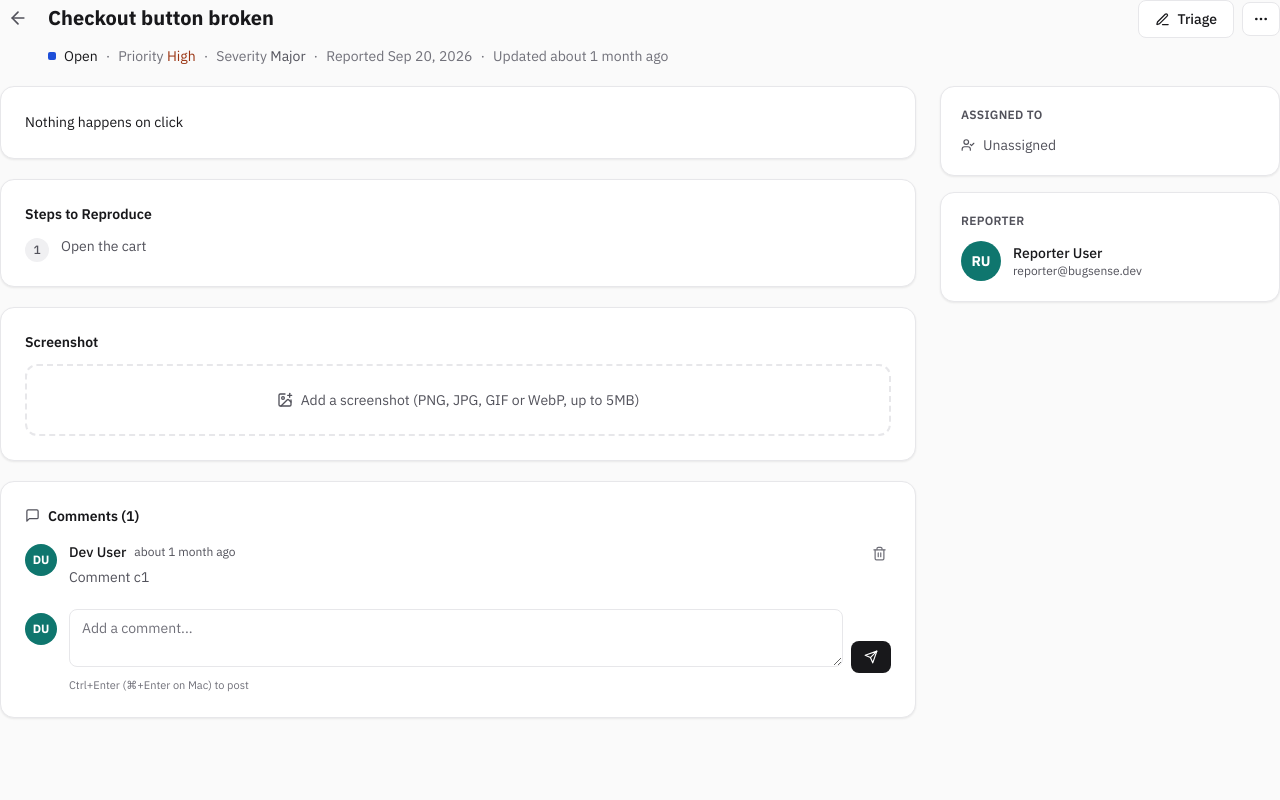
it: BugDetail real-time behaviour › asks before deleting a comment, and only deletes on confirm
Expected: the heading "Checkout button broken" is shown, [48, 4, 274, 31]
Click the button named "Delete comment by Dev User".
click(879, 554)  # box [859, 534, 899, 574]
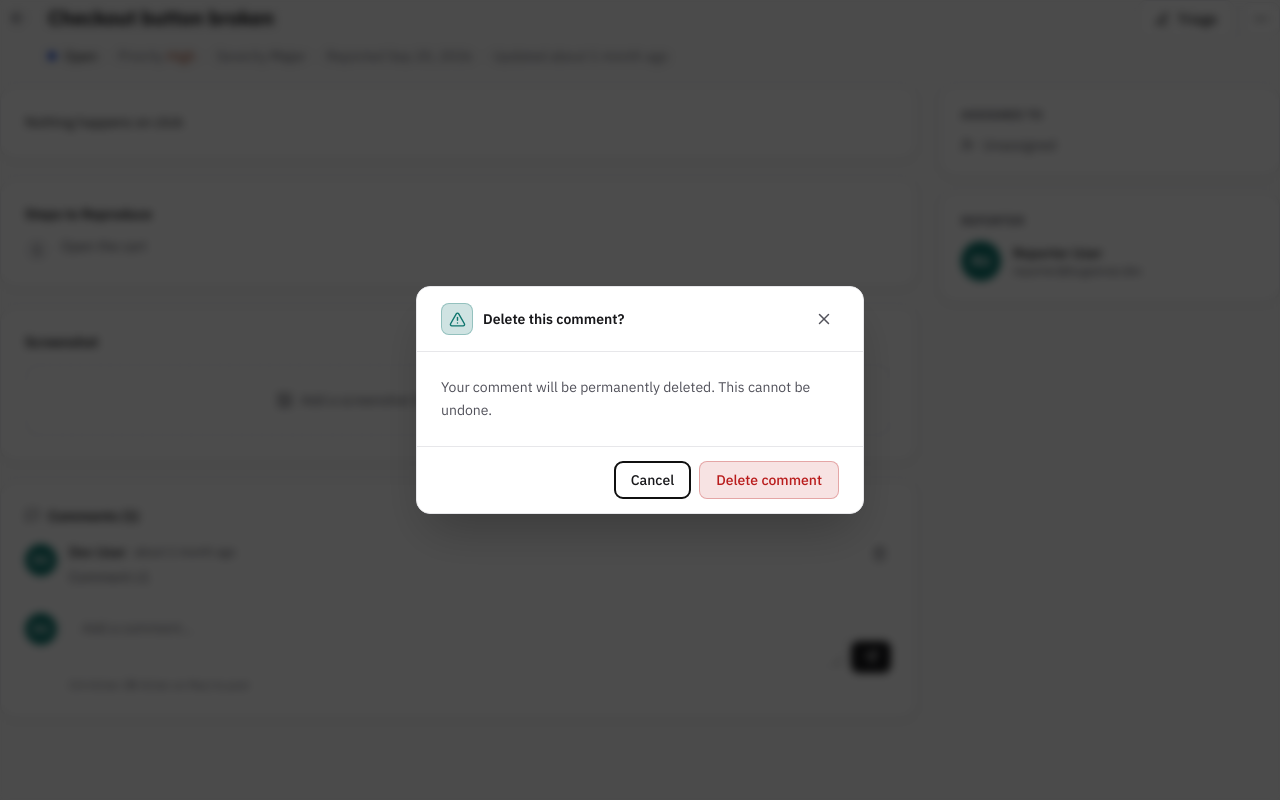
# Cancel keeps it.
Click the button "Cancel".
click(652, 480)  # box [614, 461, 691, 499]
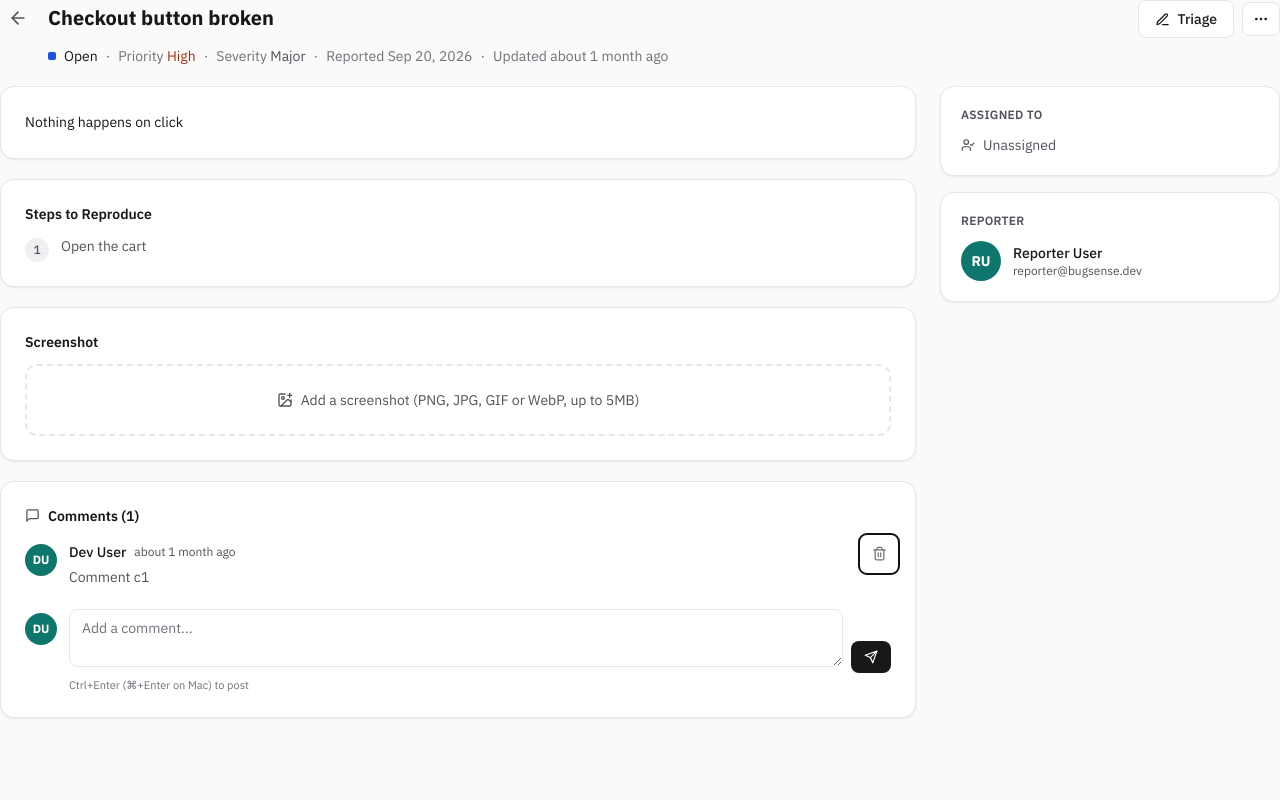
Expected: the text "Comment c1" is shown, [69, 568, 149, 586]
Now the dialog is gone
# Confirm deletes it.
Click the button named "Delete comment by Dev User".
click(879, 554)  # box [859, 534, 899, 574]
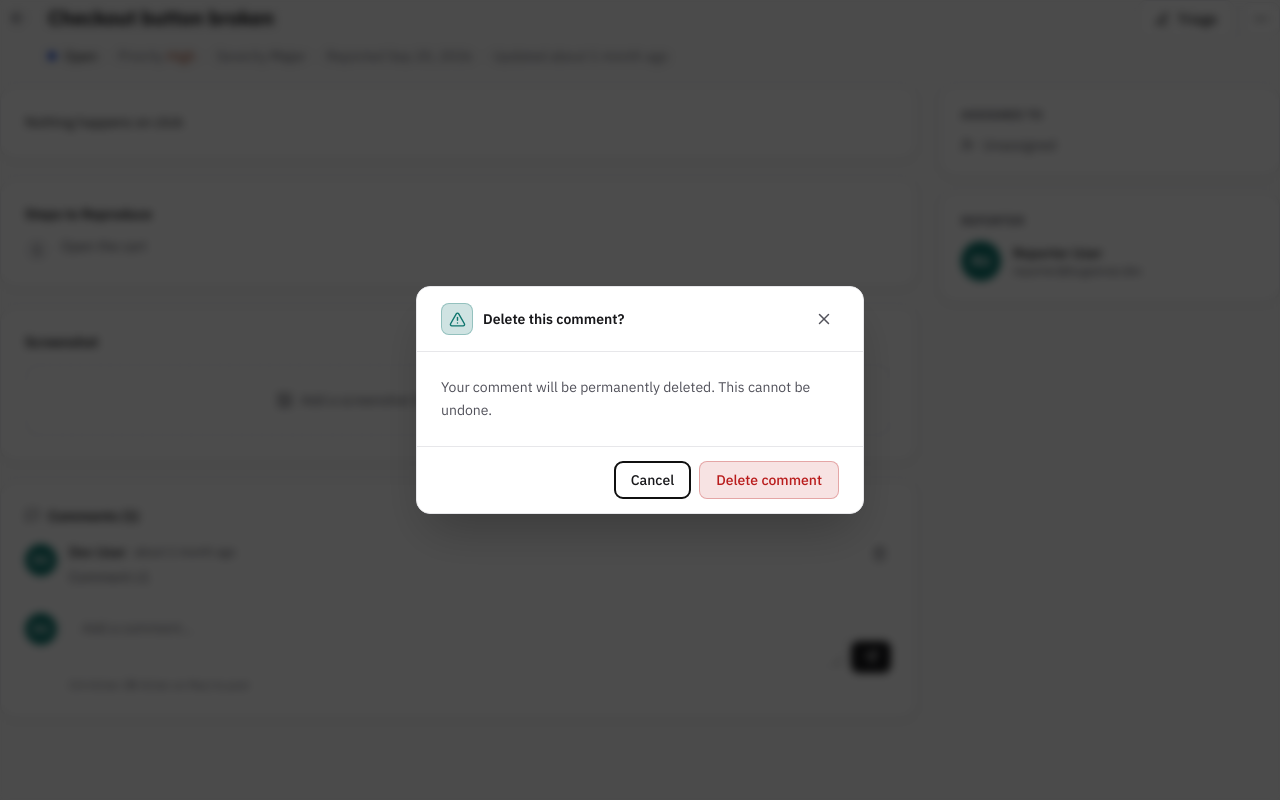
Click the button "Delete comment".
click(769, 480)  # box [699, 461, 839, 499]
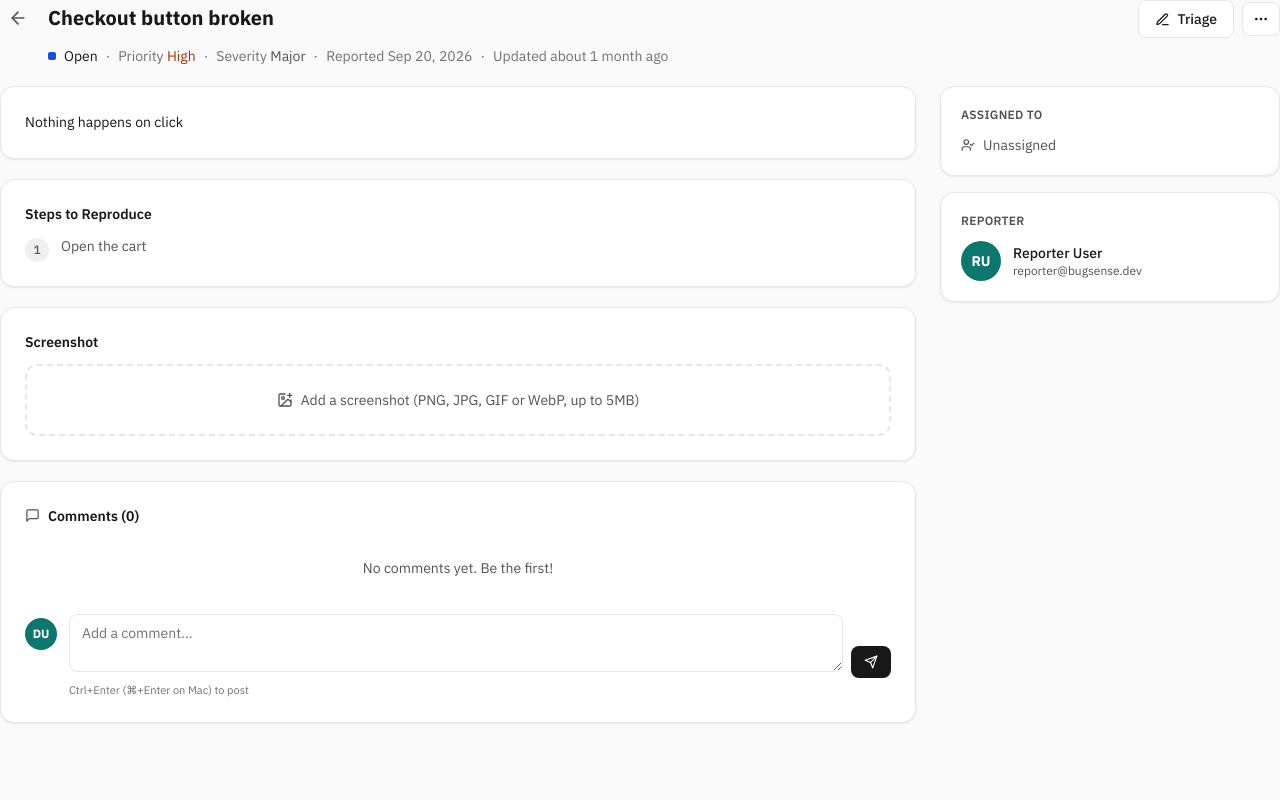
Now the text "Comment c1" is gone
Now the dialog is gone
